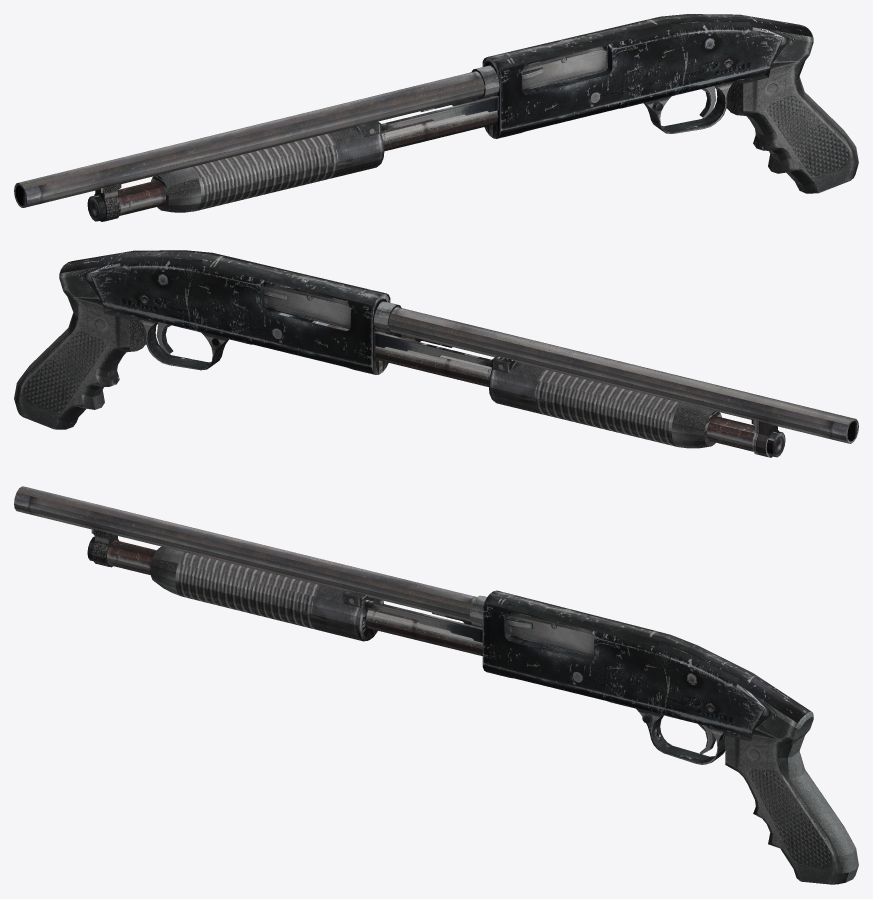
File: w_winchester1300.obj
The picture shows the model from 3 angles, top to bottom: view 1: azimuth 30°, elevation 25°; view 2: azimuth 150°, elevation 25°; view 3: azimuth 330°, elevation 25°; orthographic projection.
Visible parts, largest first — view 1: Winchester1300; view 2: Winchester1300; view 3: Winchester1300.
Part boxes in pixels (x1,y1,x2,y2): Winchester1300: (14, 14, 858, 221); Winchester1300: (14, 250, 858, 457); Winchester1300: (14, 486, 858, 884).
Size of the model in its own units: 11.22 by 2.65 by 0.6206.
